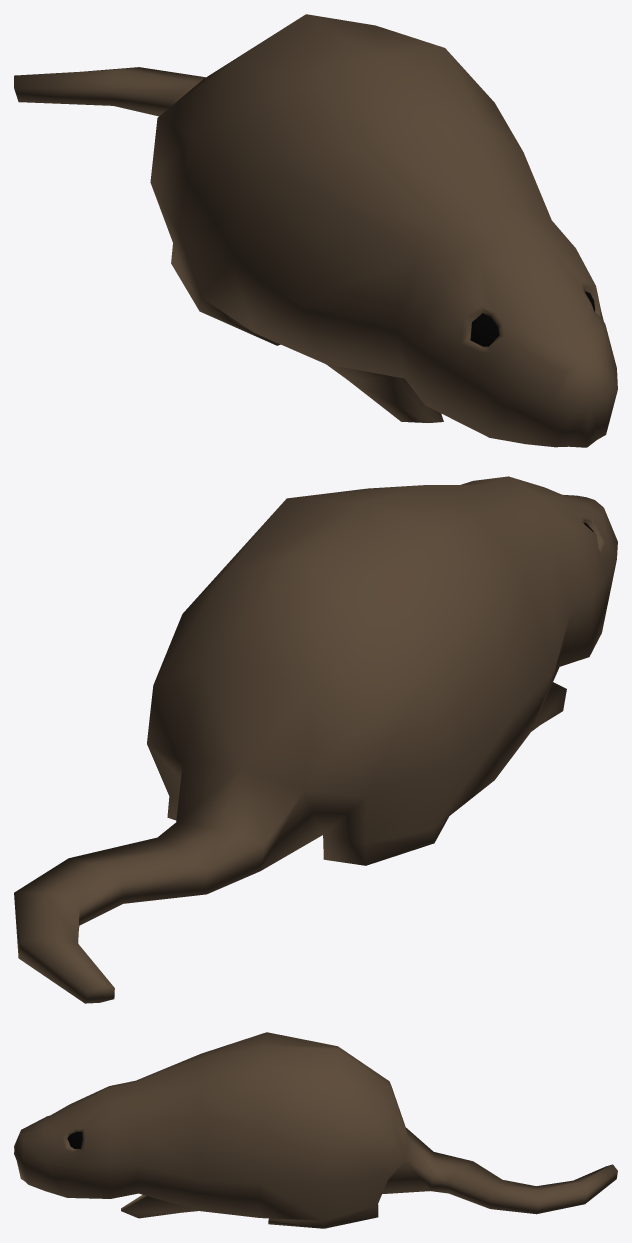
Rendered from Rat.fbx.
The picture shows the model from 3 angles, top to bottom: view 1: azimuth 30°, elevation 25°; view 2: azimuth 150°, elevation 25°; view 3: azimuth 270°, elevation 25°; orthographic projection. The views are drawn at different scales.
Parts seen in each view (by area): view 1: Rat; view 2: Rat; view 3: Rat.
Part boxes in pixels (bbox=[...]): Rat: bbox=[14, 14, 617, 447]; Rat: bbox=[14, 476, 617, 1003]; Rat: bbox=[14, 1032, 617, 1228].
Bounding box in the file's own units: 31.76 × 28.5 × 102.
